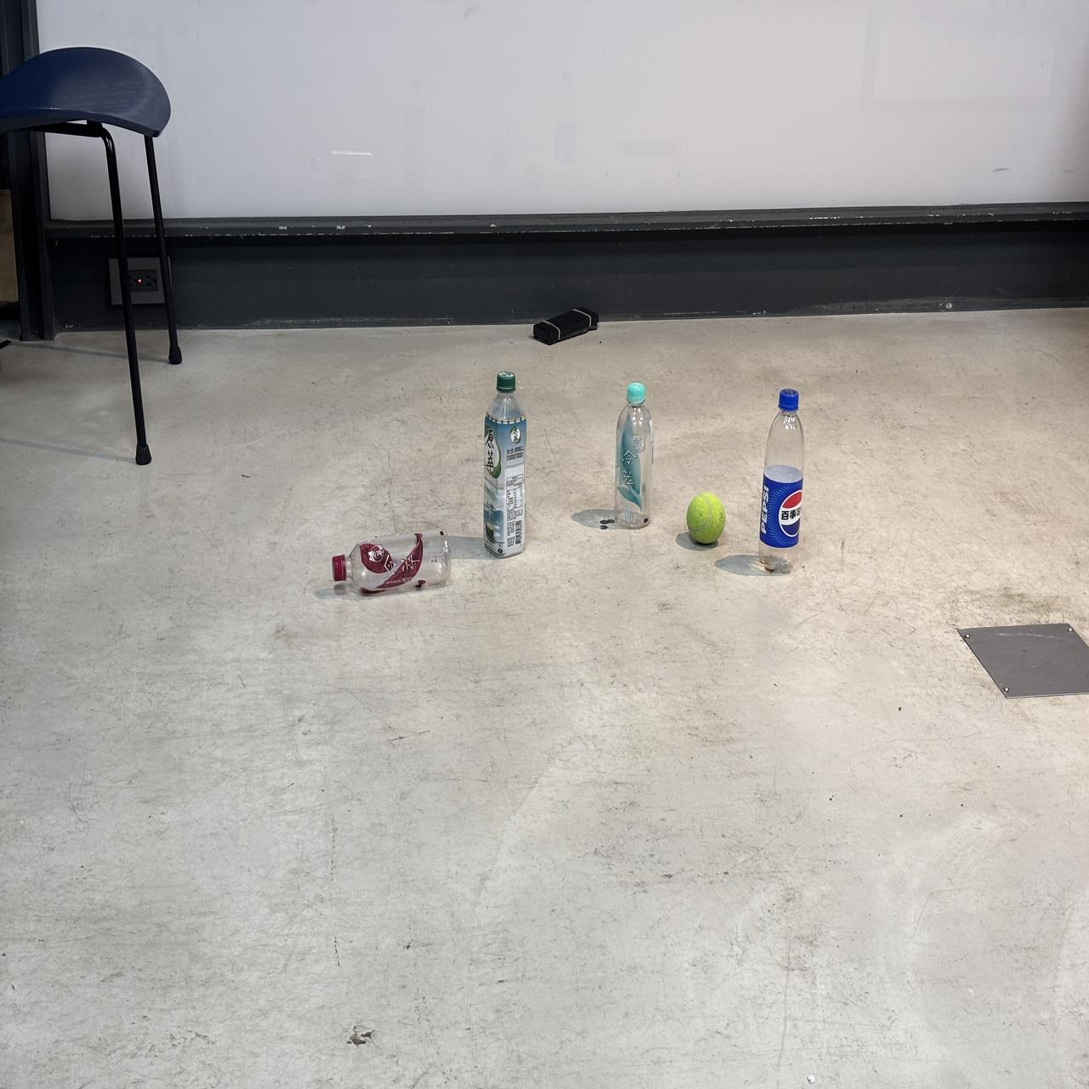plastic-bottle: (760, 389, 804, 573), (484, 372, 526, 556), (615, 383, 653, 528)
tennisball: (687, 493, 725, 544)
